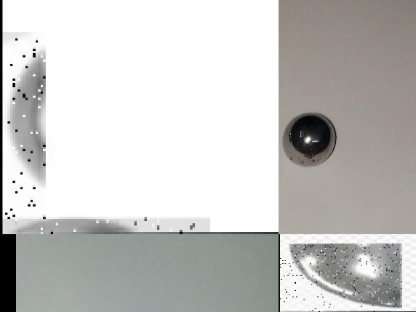ironball: (0, 31, 43, 233), (278, 243, 400, 311), (0, 218, 207, 234), (280, 110, 332, 166)
